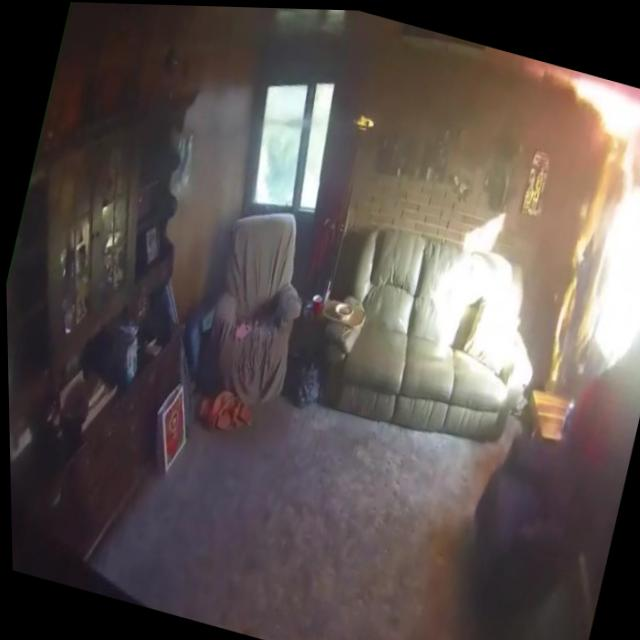fire: (527, 149, 623, 396), (554, 65, 640, 163)
